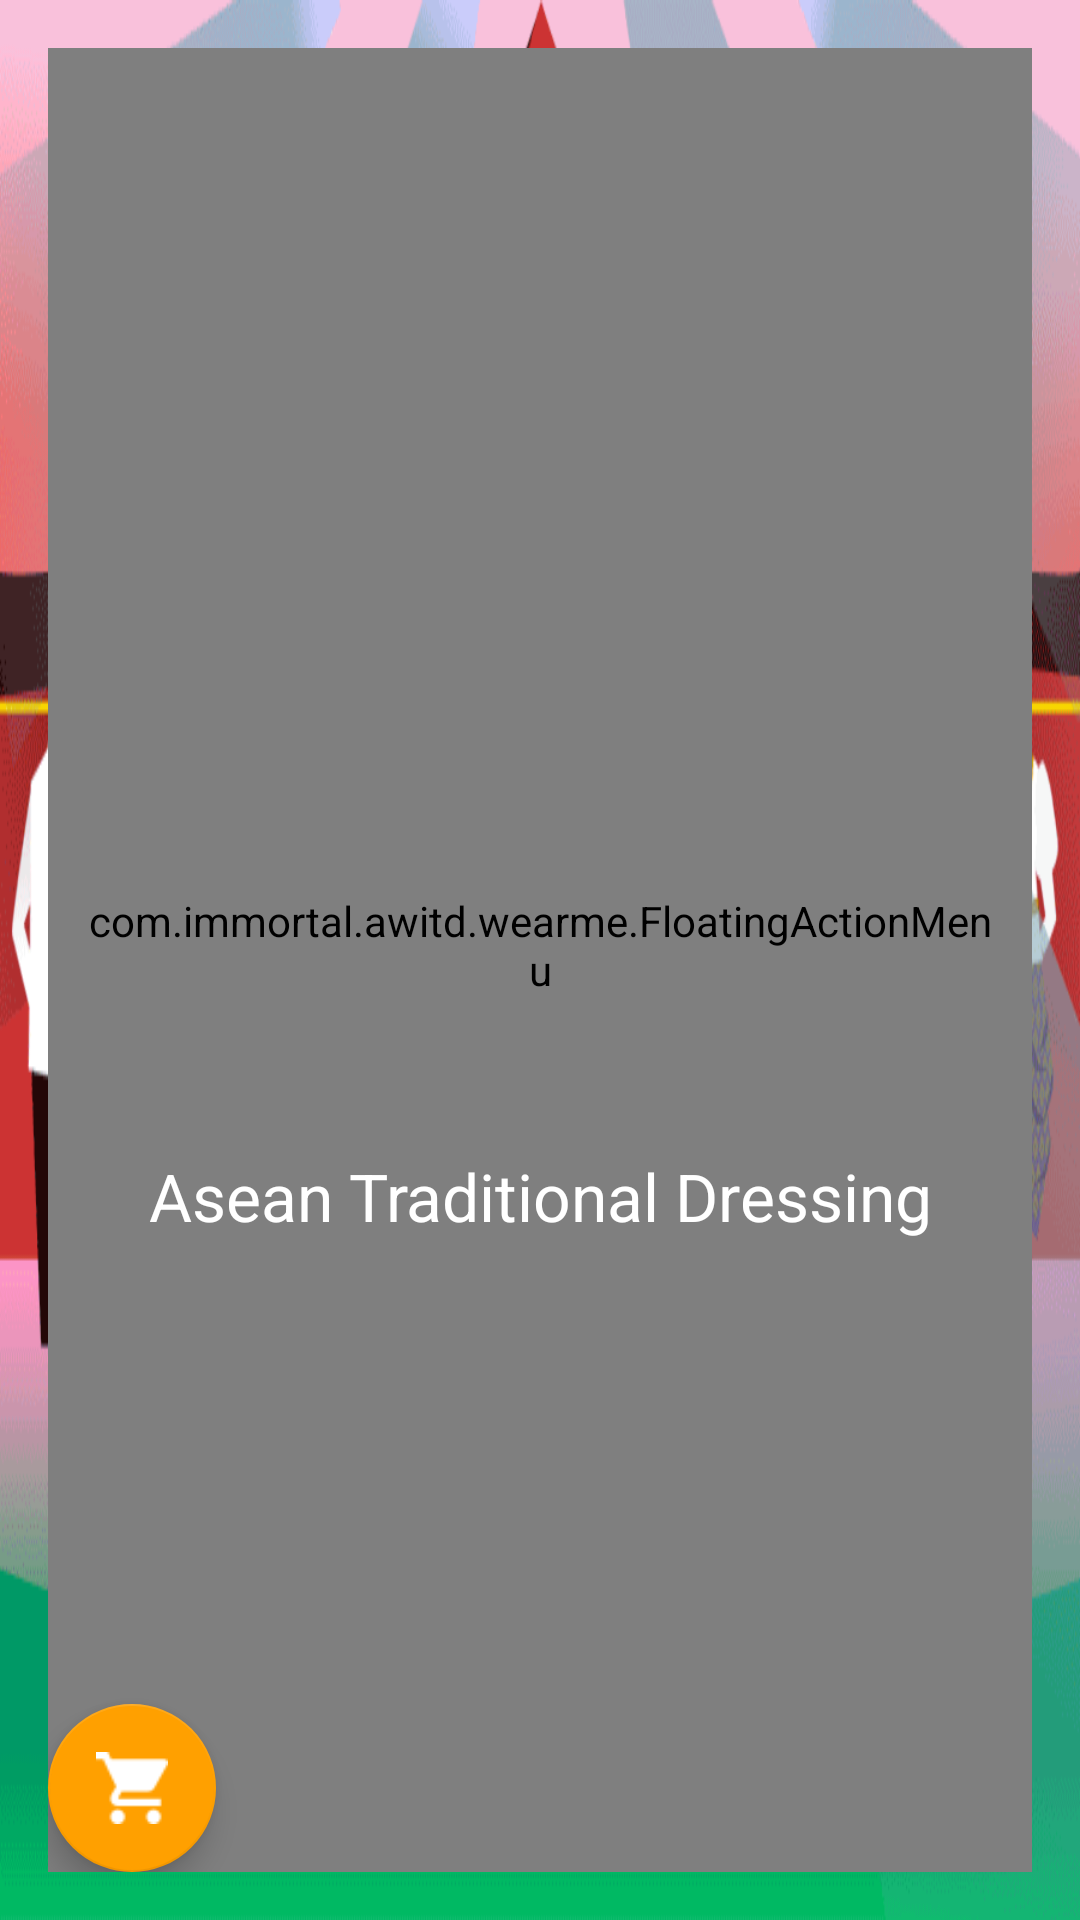

Icon click points for this 1080w x 1920h phone screenshot, format [x,y]:
shopping cart: [132,1788]
